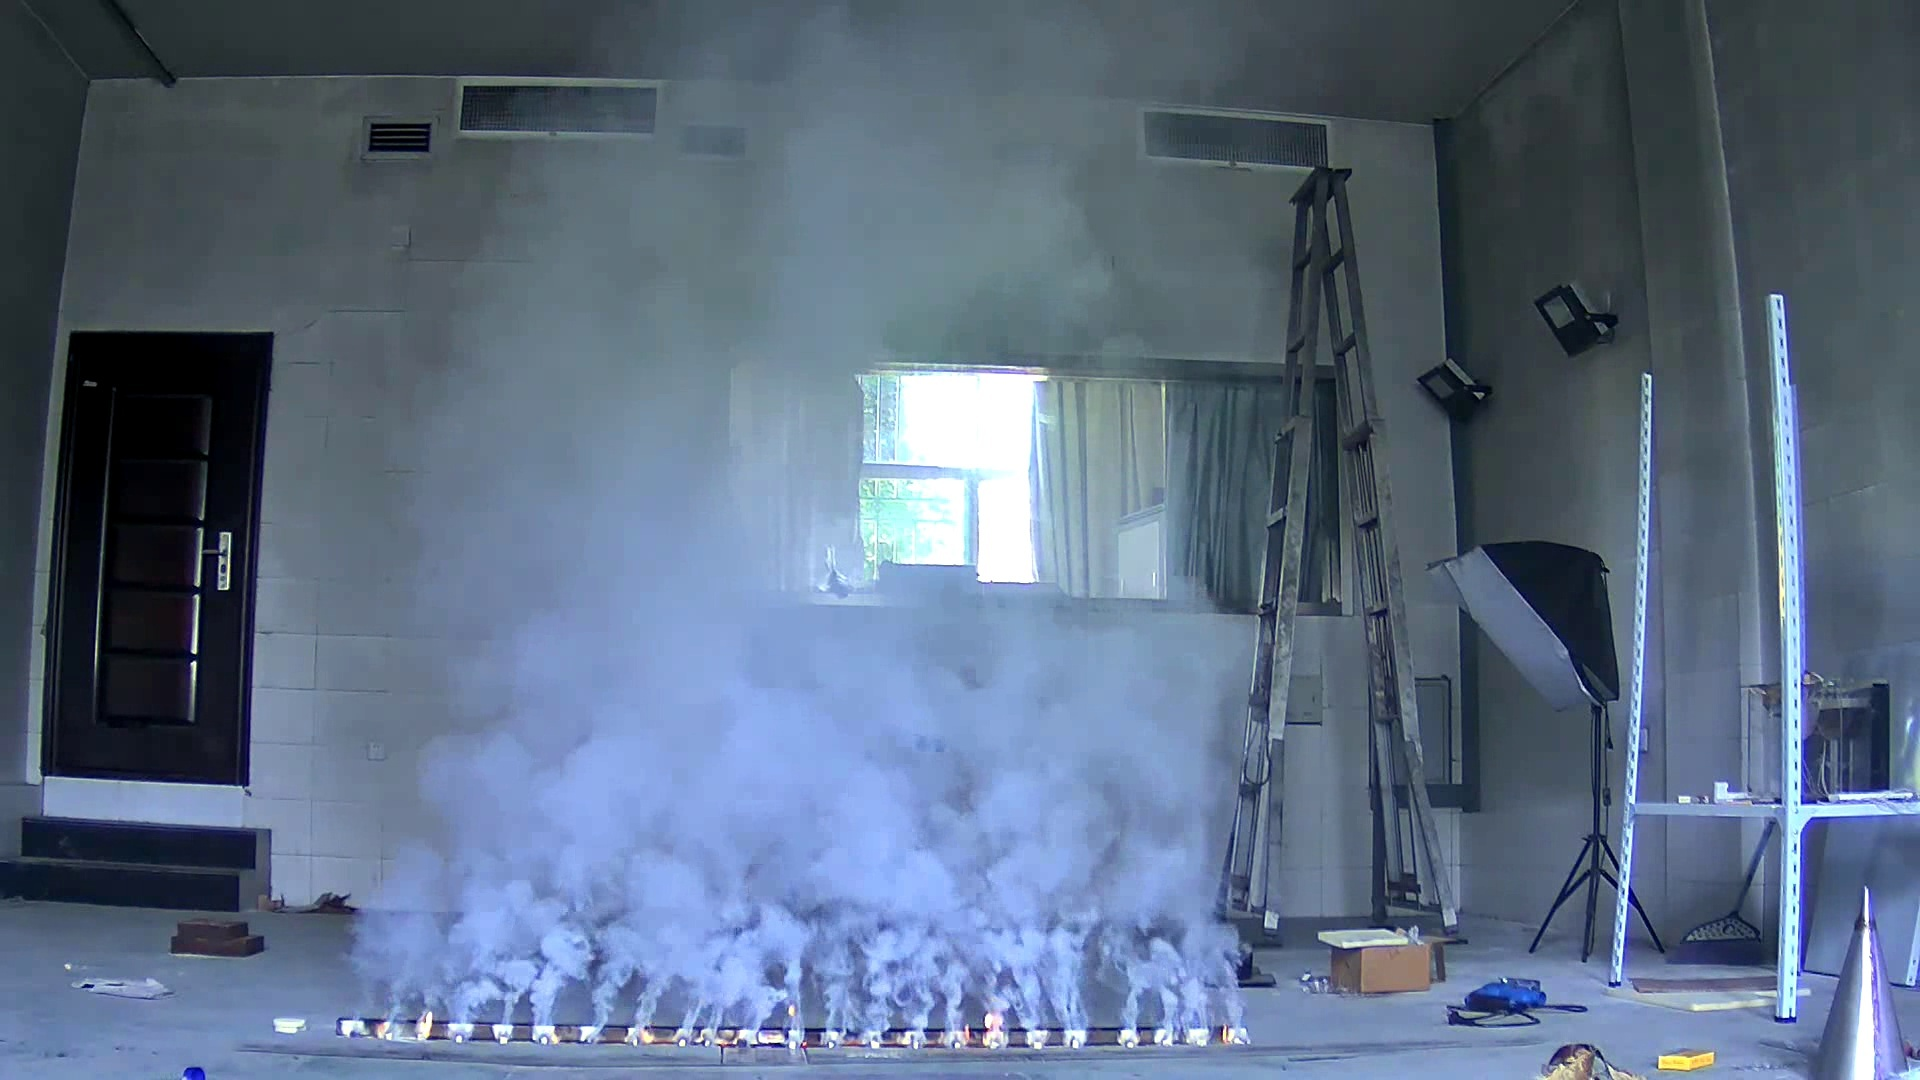smoke: (324, 506, 1261, 1025)
